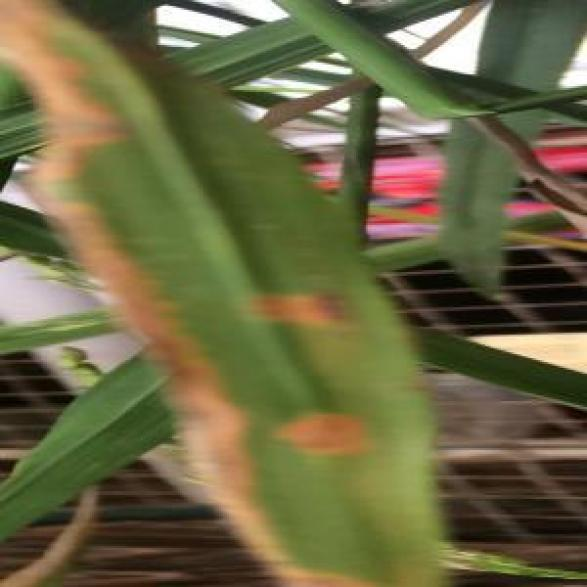Bacteria_Leaf_Blight: (166, 143, 409, 581)
